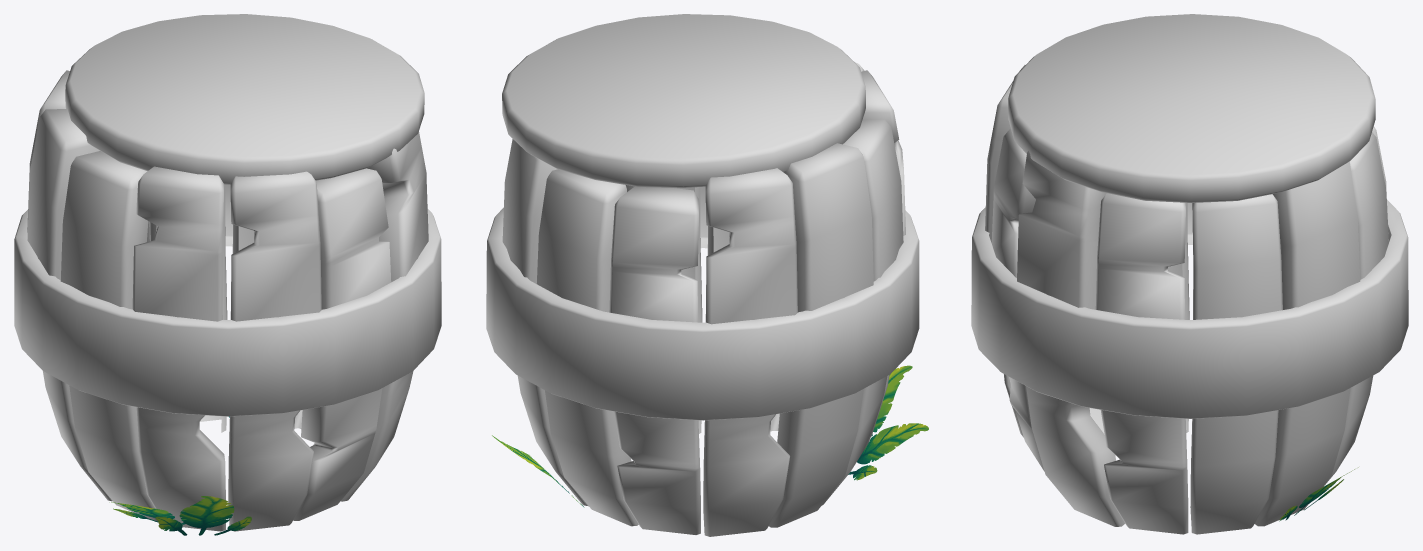
The model's file is SM_Barrel.fbx.
The picture shows the model from 3 angles, left to right: view 1: azimuth 30°, elevation 25°; view 2: azimuth 150°, elevation 25°; view 3: azimuth 270°, elevation 25°; orthographic projection. The views are drawn at different scales.
Parts seen in each view (by area): view 1: BarrelMesh; view 2: BarrelMesh; view 3: BarrelMesh.
Boxes of the visible parts, <box> form: BarrelMesh: <box>14,14,441,535</box>; BarrelMesh: <box>486,14,928,536</box>; BarrelMesh: <box>971,14,1408,534</box>.
Bounding box in the file's own units: 322 × 325 × 317.
